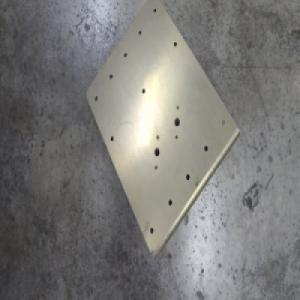MetalSheet: (84, 0, 242, 263)
